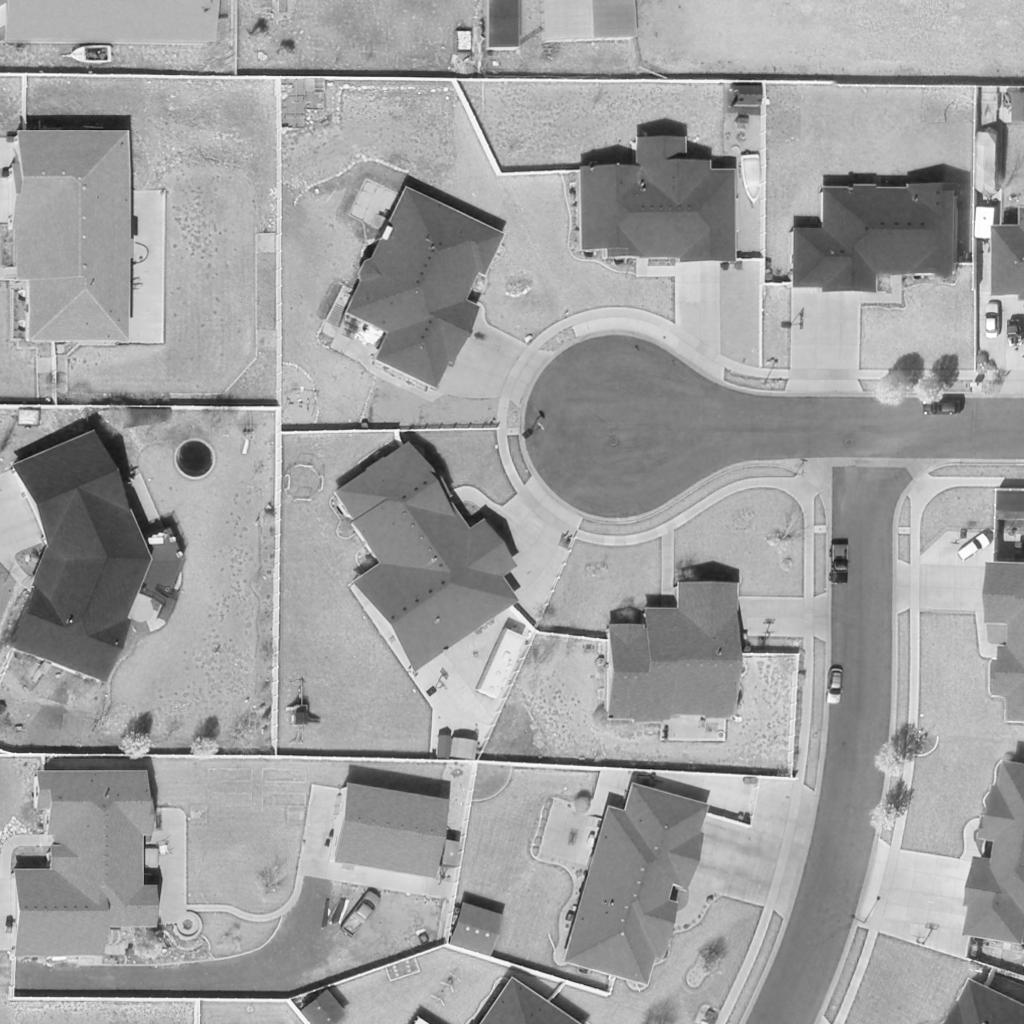vehicle: (476, 626, 526, 700), (341, 890, 381, 936), (739, 153, 763, 211), (953, 532, 993, 564), (70, 44, 112, 66), (976, 206, 996, 242), (832, 542, 848, 586), (986, 304, 1002, 344), (922, 400, 960, 416), (827, 669, 843, 705)
